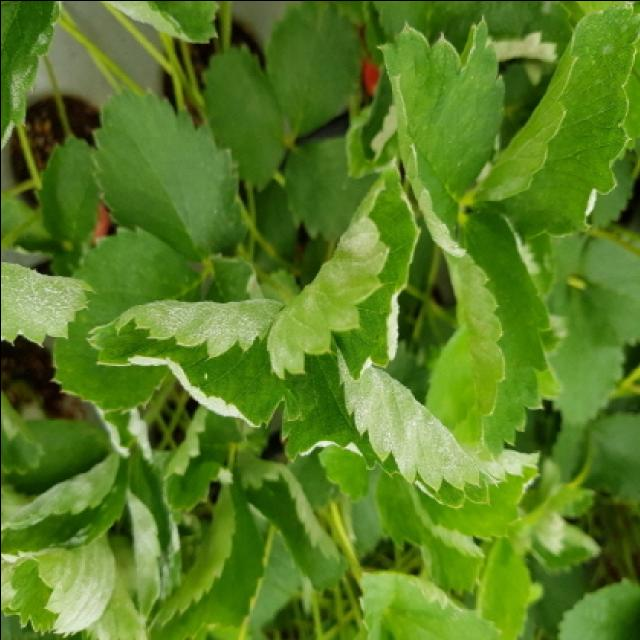Powdery Mildew Leaf: (266, 162, 420, 382), (373, 17, 504, 257), (312, 340, 496, 509), (82, 297, 316, 428), (239, 457, 348, 593), (2, 455, 129, 565), (414, 448, 542, 541), (161, 404, 244, 515), (2, 2, 63, 150), (127, 449, 180, 619), (2, 261, 97, 346), (102, 2, 218, 44), (485, 11, 570, 65), (89, 399, 153, 462), (357, 57, 395, 162)
